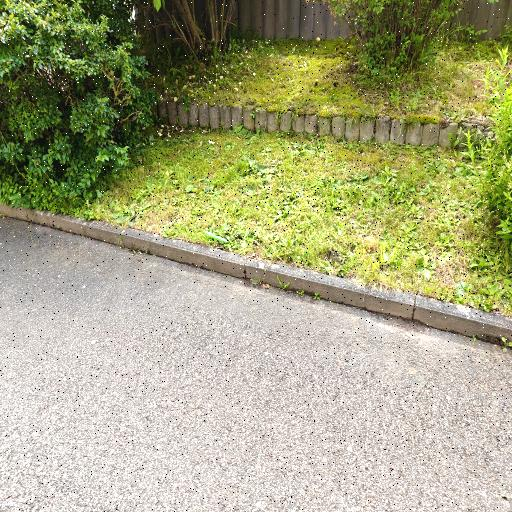Probe-Detection: (205, 231, 228, 243)
